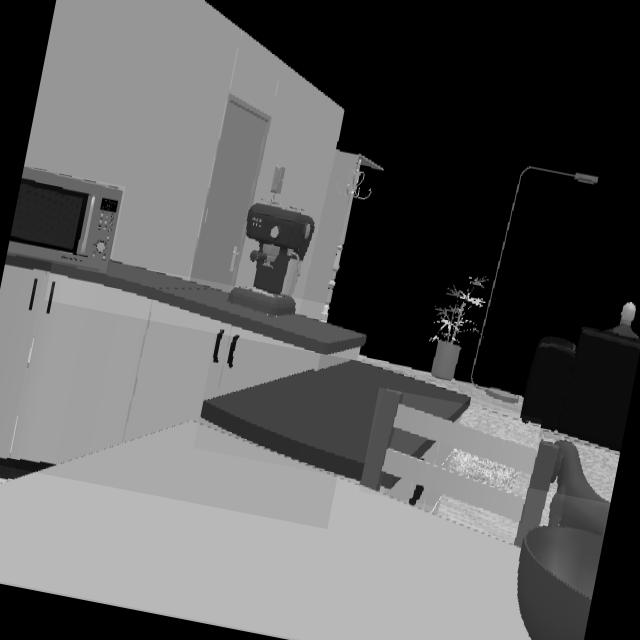cabinet: (0, 264, 363, 469)
chair: (360, 390, 536, 523)
countertop: (200, 361, 470, 480), (50, 262, 367, 354)
microwave: (8, 168, 121, 272)
person: (613, 302, 640, 337)
sofa: (519, 329, 640, 453)
table: (0, 422, 530, 640)
